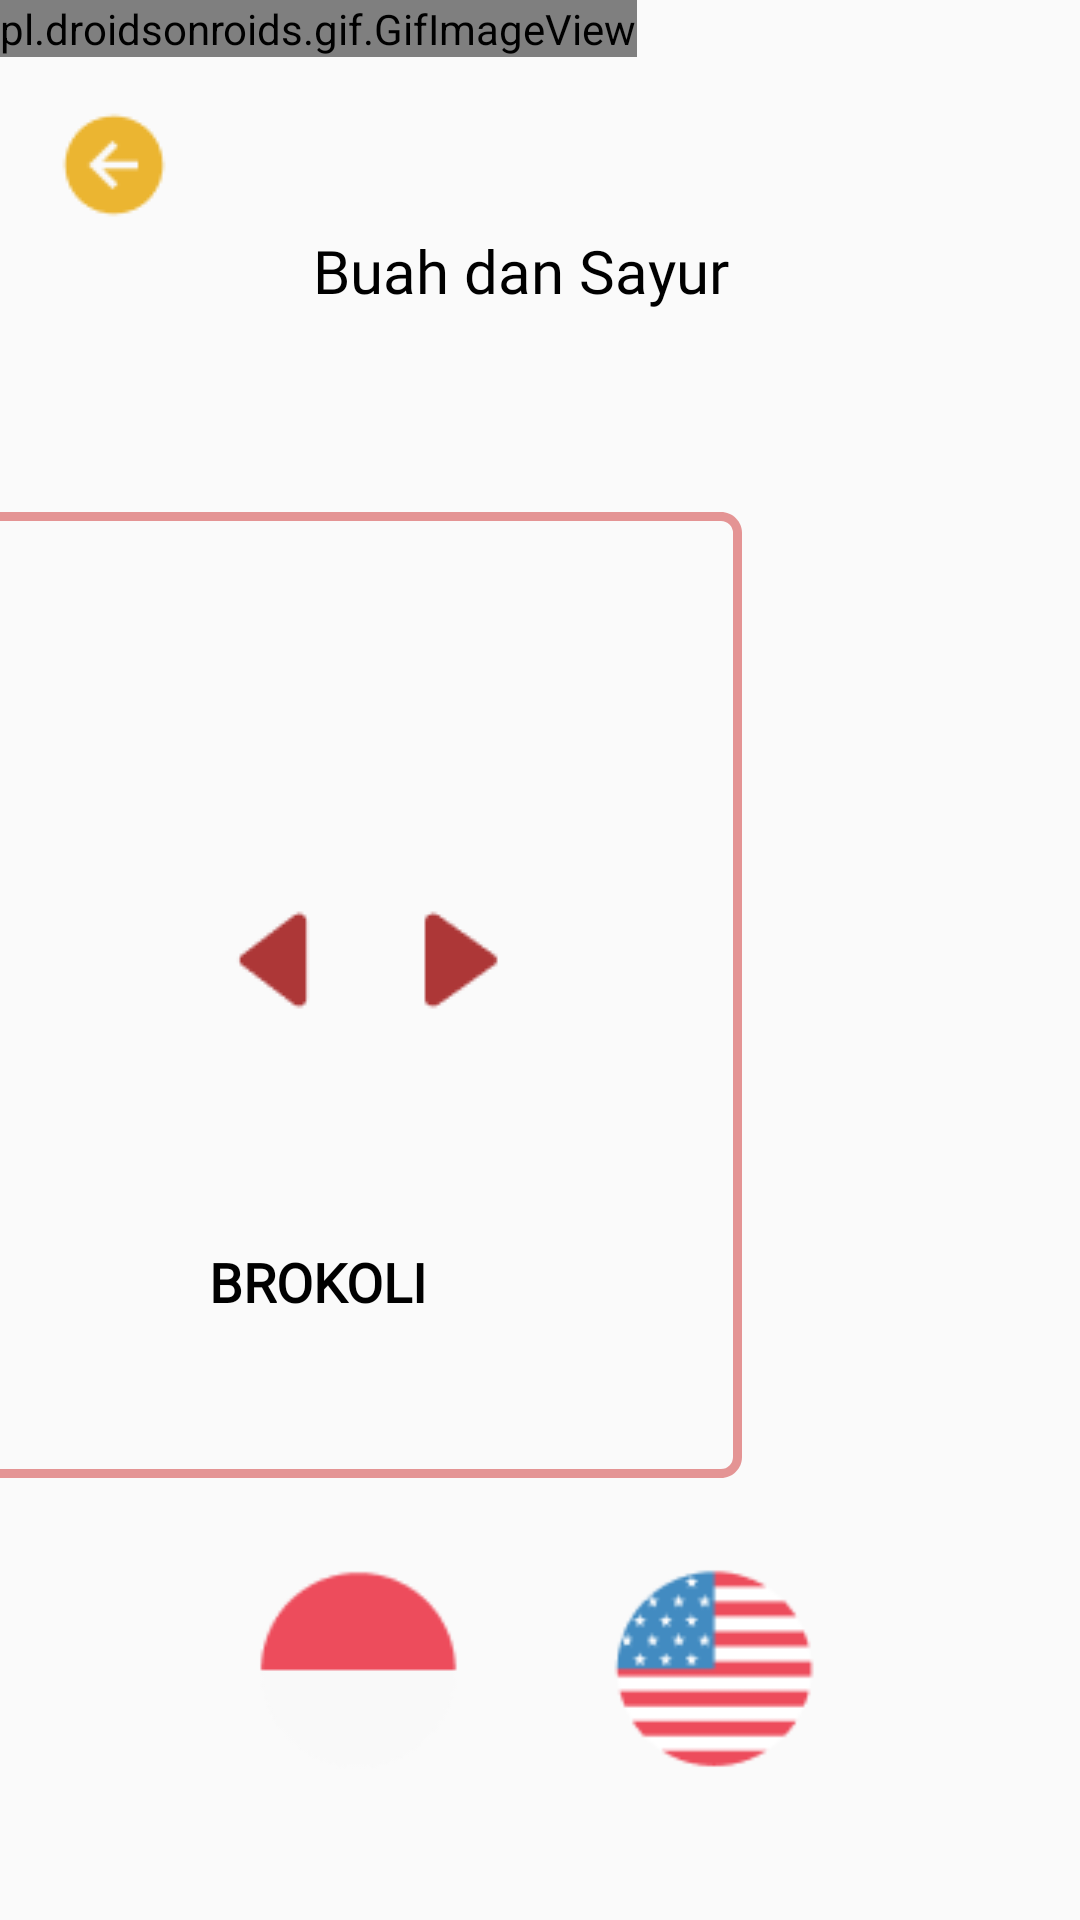

Icon click points for this 1080px×1920px phone screenshot, format point (x, y):
back: point (273, 959)
inggris: point (714, 1668)
keluar: point (114, 165)
next: point (461, 959)
